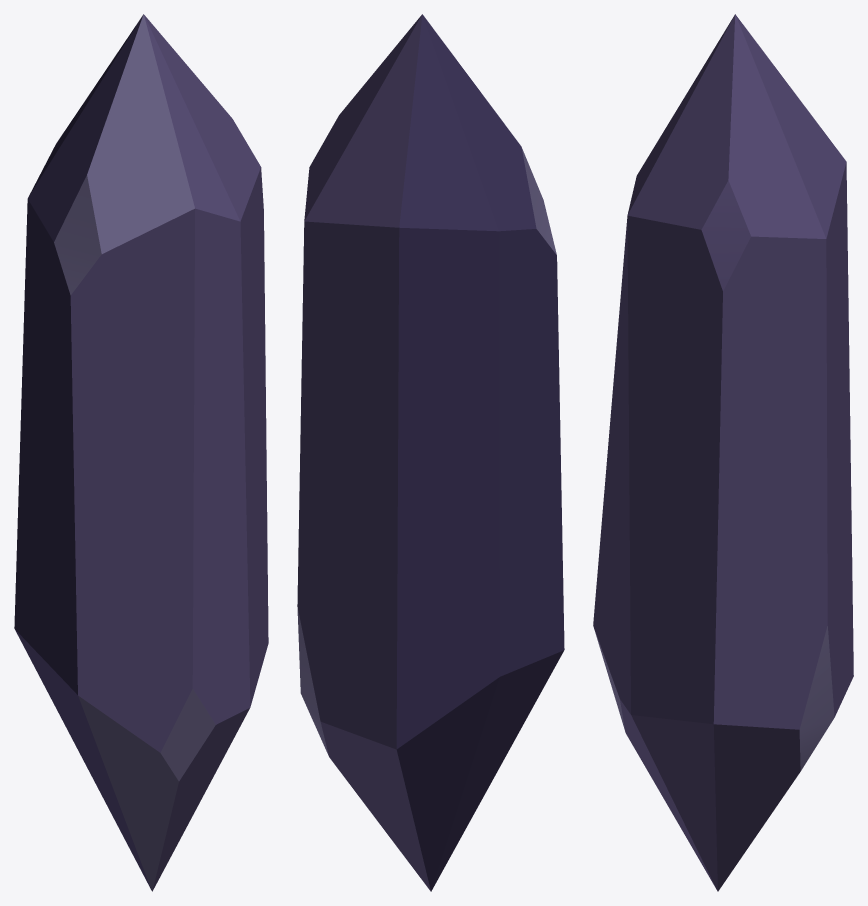
Rendered from crystal.fbx.
3 views of the same model, side by side, from view 1: azimuth 30°, elevation 25°; view 2: azimuth 150°, elevation 25°; view 3: azimuth 270°, elevation 25° (orthographic).
Parts seen in each view (by area): view 1: polySurface135; view 2: polySurface135; view 3: polySurface135.
Boxes of the visible parts, bbox=[...] form: polySurface135: bbox=[14, 14, 268, 891]; polySurface135: bbox=[297, 14, 564, 891]; polySurface135: bbox=[593, 14, 853, 891].
Bounding box in the file's own units: 23.26 × 89.24 × 24.02.
